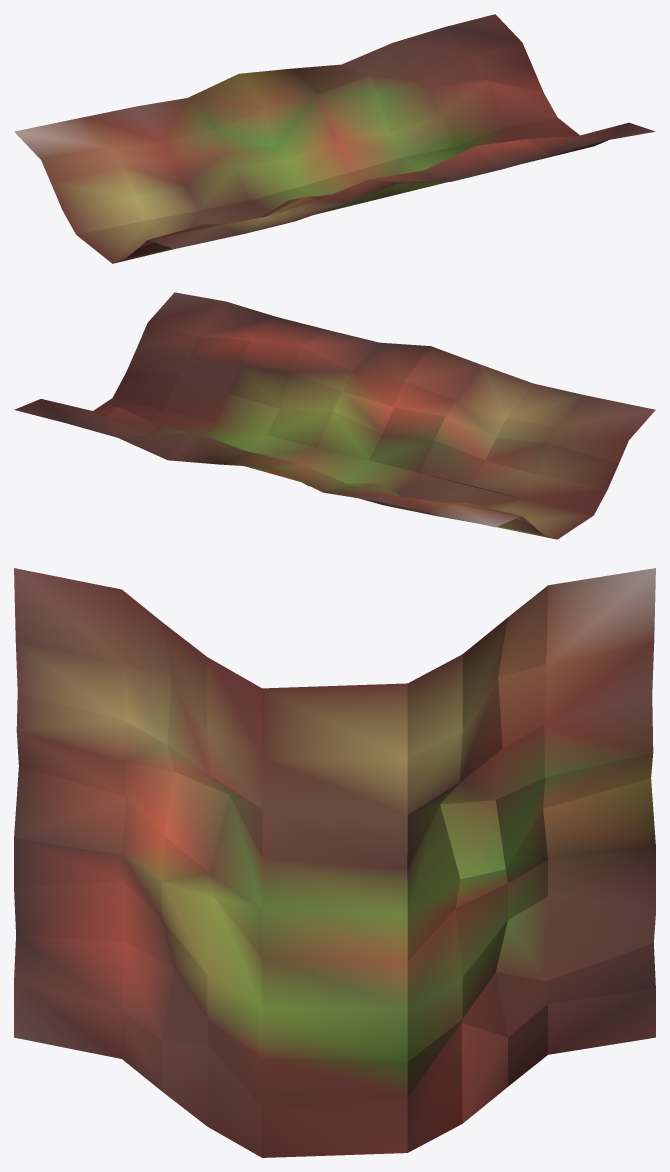
The model's file is TerrainStraight.fbx.
3 views of the same model, one above another, from view 1: azimuth 30°, elevation 25°; view 2: azimuth 150°, elevation 25°; view 3: azimuth 270°, elevation 25° (orthographic). The views are drawn at different scales.
Parts seen in each view (by area): view 1: Plane.001; view 2: Plane.001; view 3: Plane.001.
Boxes of the visible parts, x1,y1,x2,y2 form: Plane.001: (14,14,655,263); Plane.001: (14,292,655,539); Plane.001: (14,568,655,1157).
Bounding box in the file's own units: 1000 × 151 × 578.
